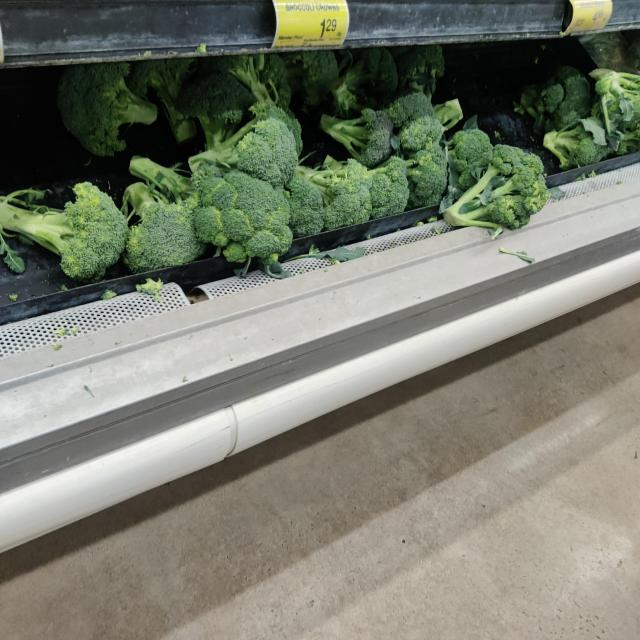Broccoli: (190, 137, 312, 264), (5, 181, 130, 291), (447, 115, 554, 237), (327, 70, 464, 158), (44, 60, 168, 152), (302, 136, 414, 236), (124, 188, 210, 277)
